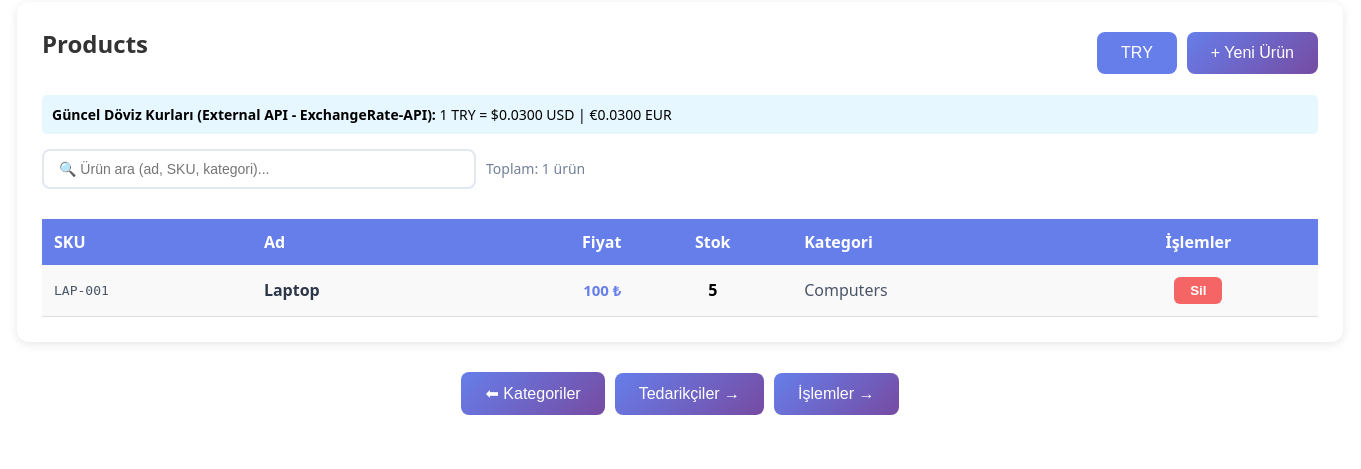
Scenario: ProductPage › showsBackendConflictMessageWhenDeletionIsRejected
Expected: the text "Laptop" is shown, [252,265,464,316]
Click the button "Sil": x=1198, y=290 [1174,277,1222,304]
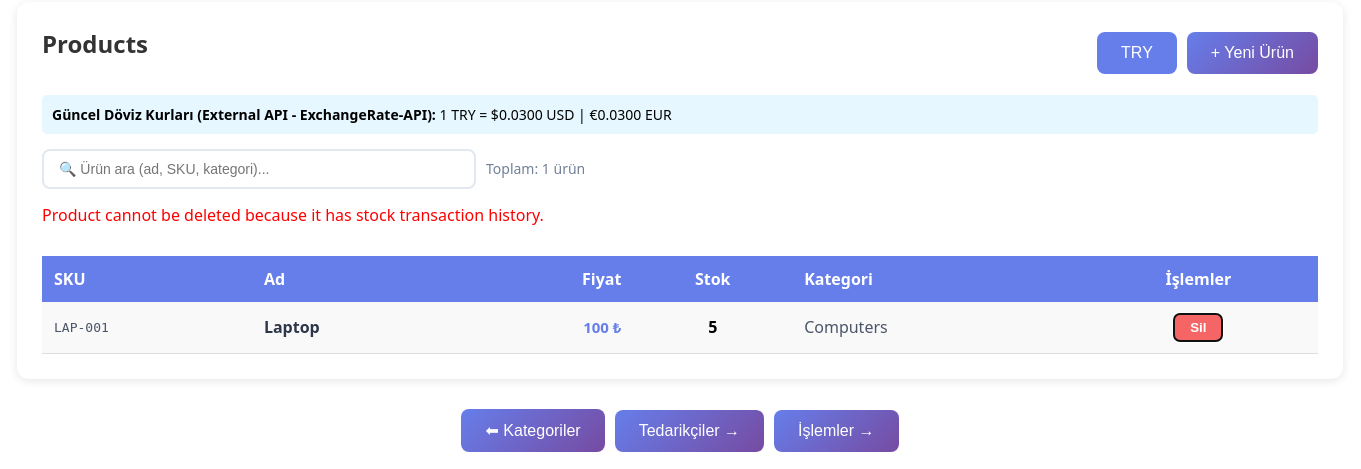
Now the text "Product cannot be deleted because it has stock transaction history." is shown, box [42,204,544,226]
